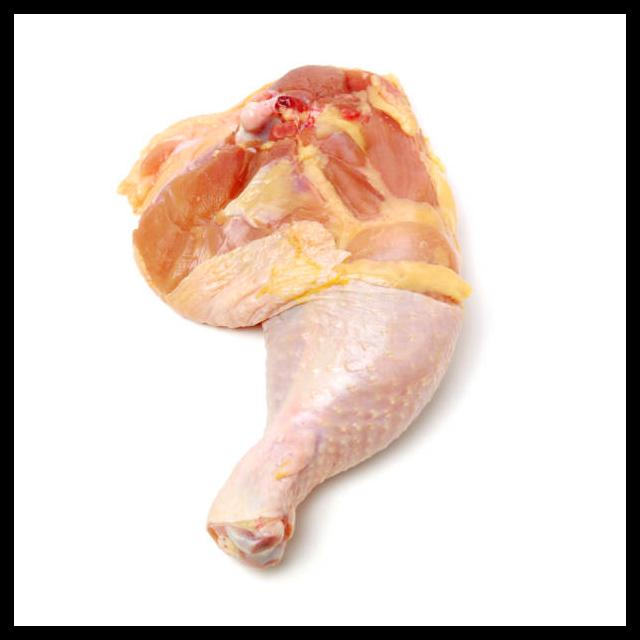chicken: (115, 61, 472, 567)
